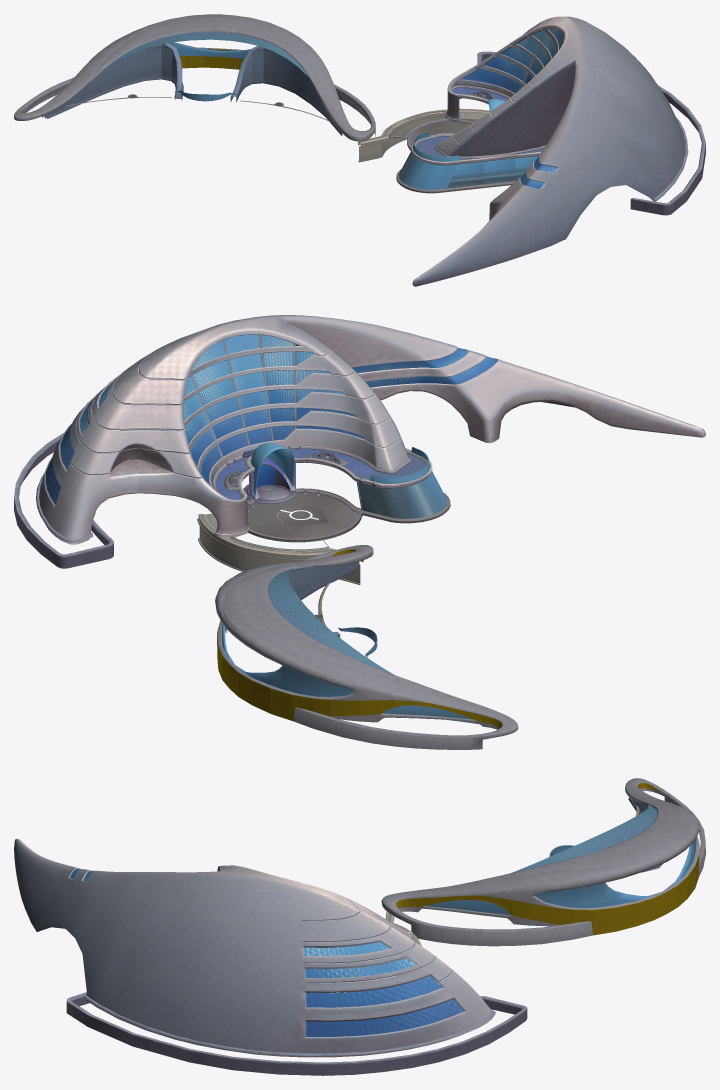
Rendered from pref_sm_4v4pointbake_CSD_L_lv0.fbx.
3 renders of one model, top to bottom at view 1: azimuth 30°, elevation 25°; view 2: azimuth 150°, elevation 25°; view 3: azimuth 270°, elevation 25°, orthographic. The views are drawn at different scales.
Parts seen in each view (by area): view 1: sm_4v4pointbake_CSD_L_a_lv0, sm_4v4pointbake_CSD_L_g_lv0, sm_4v4pointbake_CSD_L_h_lv0, sm_4v4pointbake_CSD_L_b_lv0, sm_4v4pointbake_CSD_L_i_lv0, sm_4v4pointbake_CSD_L_j_lv0, sm_4v4pointbake_CSD_L_f_lv0; view 2: sm_4v4pointbake_CSD_L_a_lv0, sm_4v4pointbake_CSD_L_b_lv0, sm_4v4pointbake_CSD_L_g_lv0, sm_4v4pointbake_CSD_L_h_lv0, sm_4v4pointbake_CSD_L_i_lv0, sm_4v4pointbake_CSD_L_j_lv0, sm_4v4pointbake_CSD_L_f_lv0, sm_4v4pointbake_CSD_L_d_lv0; view 3: sm_4v4pointbake_CSD_L_a_lv0, sm_4v4pointbake_CSD_L_g_lv0, sm_4v4pointbake_CSD_L_b_lv0, sm_4v4pointbake_CSD_L_h_lv0, sm_4v4pointbake_CSD_L_i_lv0.
Part boxes in pixels (x1=…): sm_4v4pointbake_CSD_L_a_lv0: x1=396, y1=16, x2=705, y2=286; sm_4v4pointbake_CSD_L_g_lv0: x1=14, y1=14, x2=375, y2=141; sm_4v4pointbake_CSD_L_h_lv0: x1=20, y1=43, x2=342, y2=135; sm_4v4pointbake_CSD_L_b_lv0: x1=399, y1=29, x2=563, y2=189; sm_4v4pointbake_CSD_L_i_lv0: x1=102, y1=32, x2=307, y2=101; sm_4v4pointbake_CSD_L_j_lv0: x1=358, y1=109, x2=489, y2=162; sm_4v4pointbake_CSD_L_f_lv0: x1=409, y1=120, x2=470, y2=145; sm_4v4pointbake_CSD_L_a_lv0: x1=14, y1=315, x2=705, y2=568; sm_4v4pointbake_CSD_L_b_lv0: x1=45, y1=334, x2=497, y2=518; sm_4v4pointbake_CSD_L_g_lv0: x1=215, y1=545, x2=518, y2=749; sm_4v4pointbake_CSD_L_h_lv0: x1=217, y1=549, x2=502, y2=728; sm_4v4pointbake_CSD_L_i_lv0: x1=222, y1=568, x2=473, y2=719; sm_4v4pointbake_CSD_L_j_lv0: x1=197, y1=513, x2=363, y2=584; sm_4v4pointbake_CSD_L_f_lv0: x1=247, y1=492, x2=358, y2=538; sm_4v4pointbake_CSD_L_d_lv0: x1=277, y1=505, x2=323, y2=524; sm_4v4pointbake_CSD_L_a_lv0: x1=14, y1=838, x2=527, y2=1075; sm_4v4pointbake_CSD_L_g_lv0: x1=381, y1=778, x2=705, y2=946; sm_4v4pointbake_CSD_L_b_lv0: x1=70, y1=868, x2=463, y2=1036; sm_4v4pointbake_CSD_L_h_lv0: x1=396, y1=783, x2=699, y2=935; sm_4v4pointbake_CSD_L_i_lv0: x1=426, y1=805, x2=696, y2=914.
Bounding box in the file's own units: 73.91 × 17.49 × 75.69.
